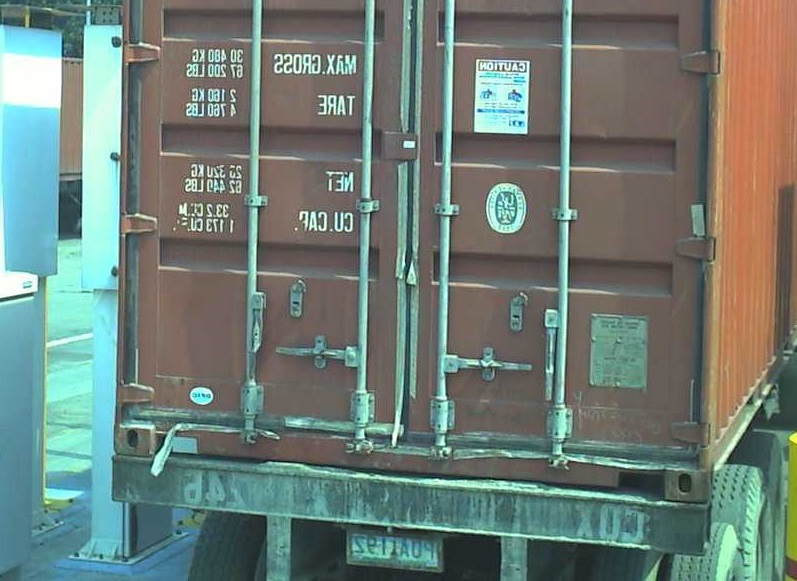container_door: (108, 1, 708, 511)
